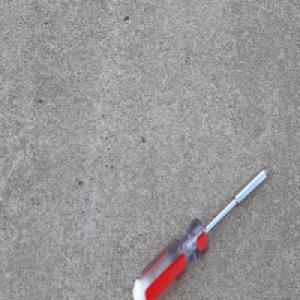Screwdriver: (130, 164, 274, 300)
